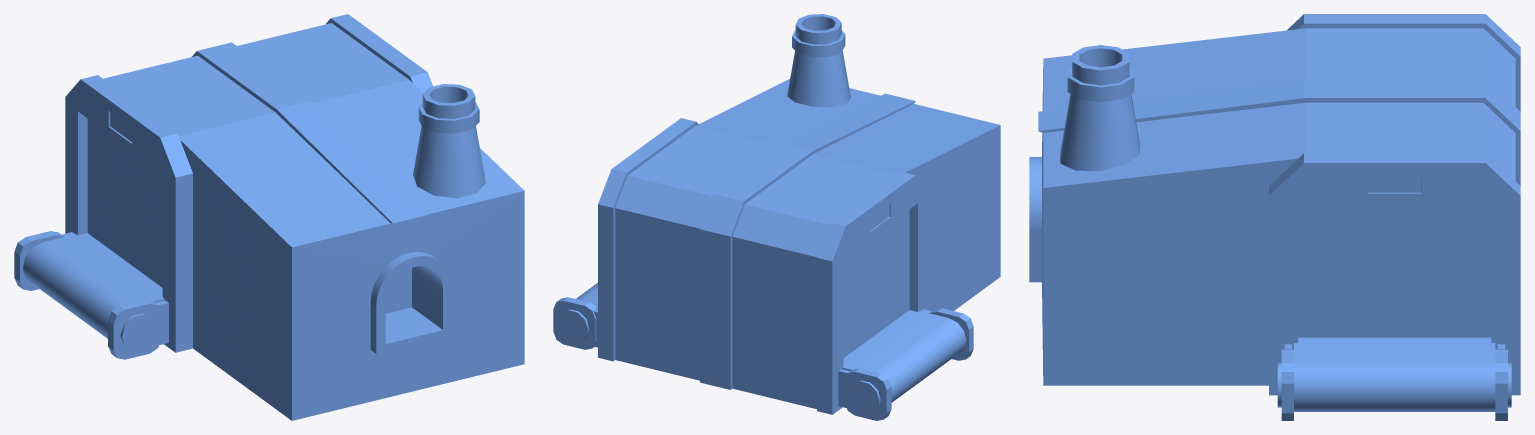
The model's file is Furnace.fbx.
3 views of the same model, side by side, from view 1: azimuth 30°, elevation 25°; view 2: azimuth 150°, elevation 25°; view 3: azimuth 270°, elevation 25° (orthographic). The views are drawn at different scales.
Parts seen in each view (by area): view 1: Furnace; view 2: Furnace; view 3: Furnace.
Part boxes in pixels (left/top/right/bottom): Furnace: left=14, top=14, right=524, bottom=420; Furnace: left=553, top=14, right=1000, bottom=420; Furnace: left=1029, top=14, right=1520, bottom=420.
Size of the model in its own units: 199 by 132 by 195.
